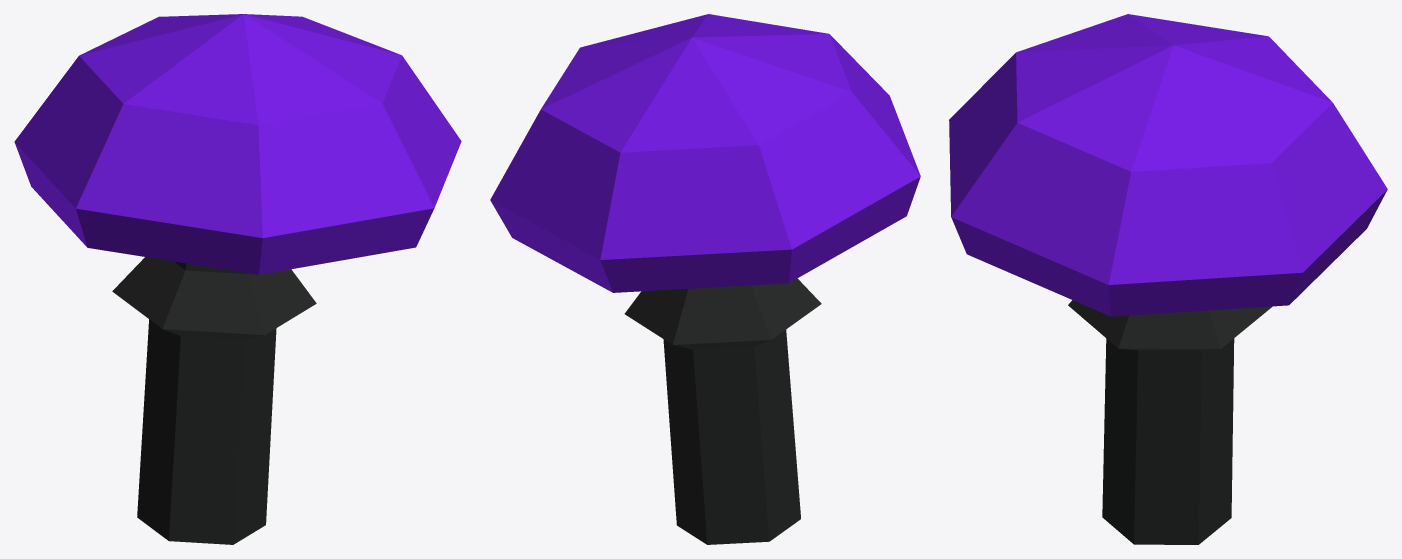
Rendered from mushroom.fbx.
The picture shows the model from 3 angles, left to right: view 1: azimuth 30°, elevation 25°; view 2: azimuth 150°, elevation 25°; view 3: azimuth 270°, elevation 25°; orthographic projection. The views are drawn at different scales.
Visible parts, largest first — view 1: mushroom-toadstool; view 2: mushroom-toadstool; view 3: mushroom-toadstool.
Boxes of the visible parts, x1,y1,x2,y2 form: mushroom-toadstool: (14, 14, 461, 544); mushroom-toadstool: (490, 14, 920, 544); mushroom-toadstool: (949, 14, 1387, 544).
Size of the model in its own units: 50.97 by 62.42 by 49.84.
